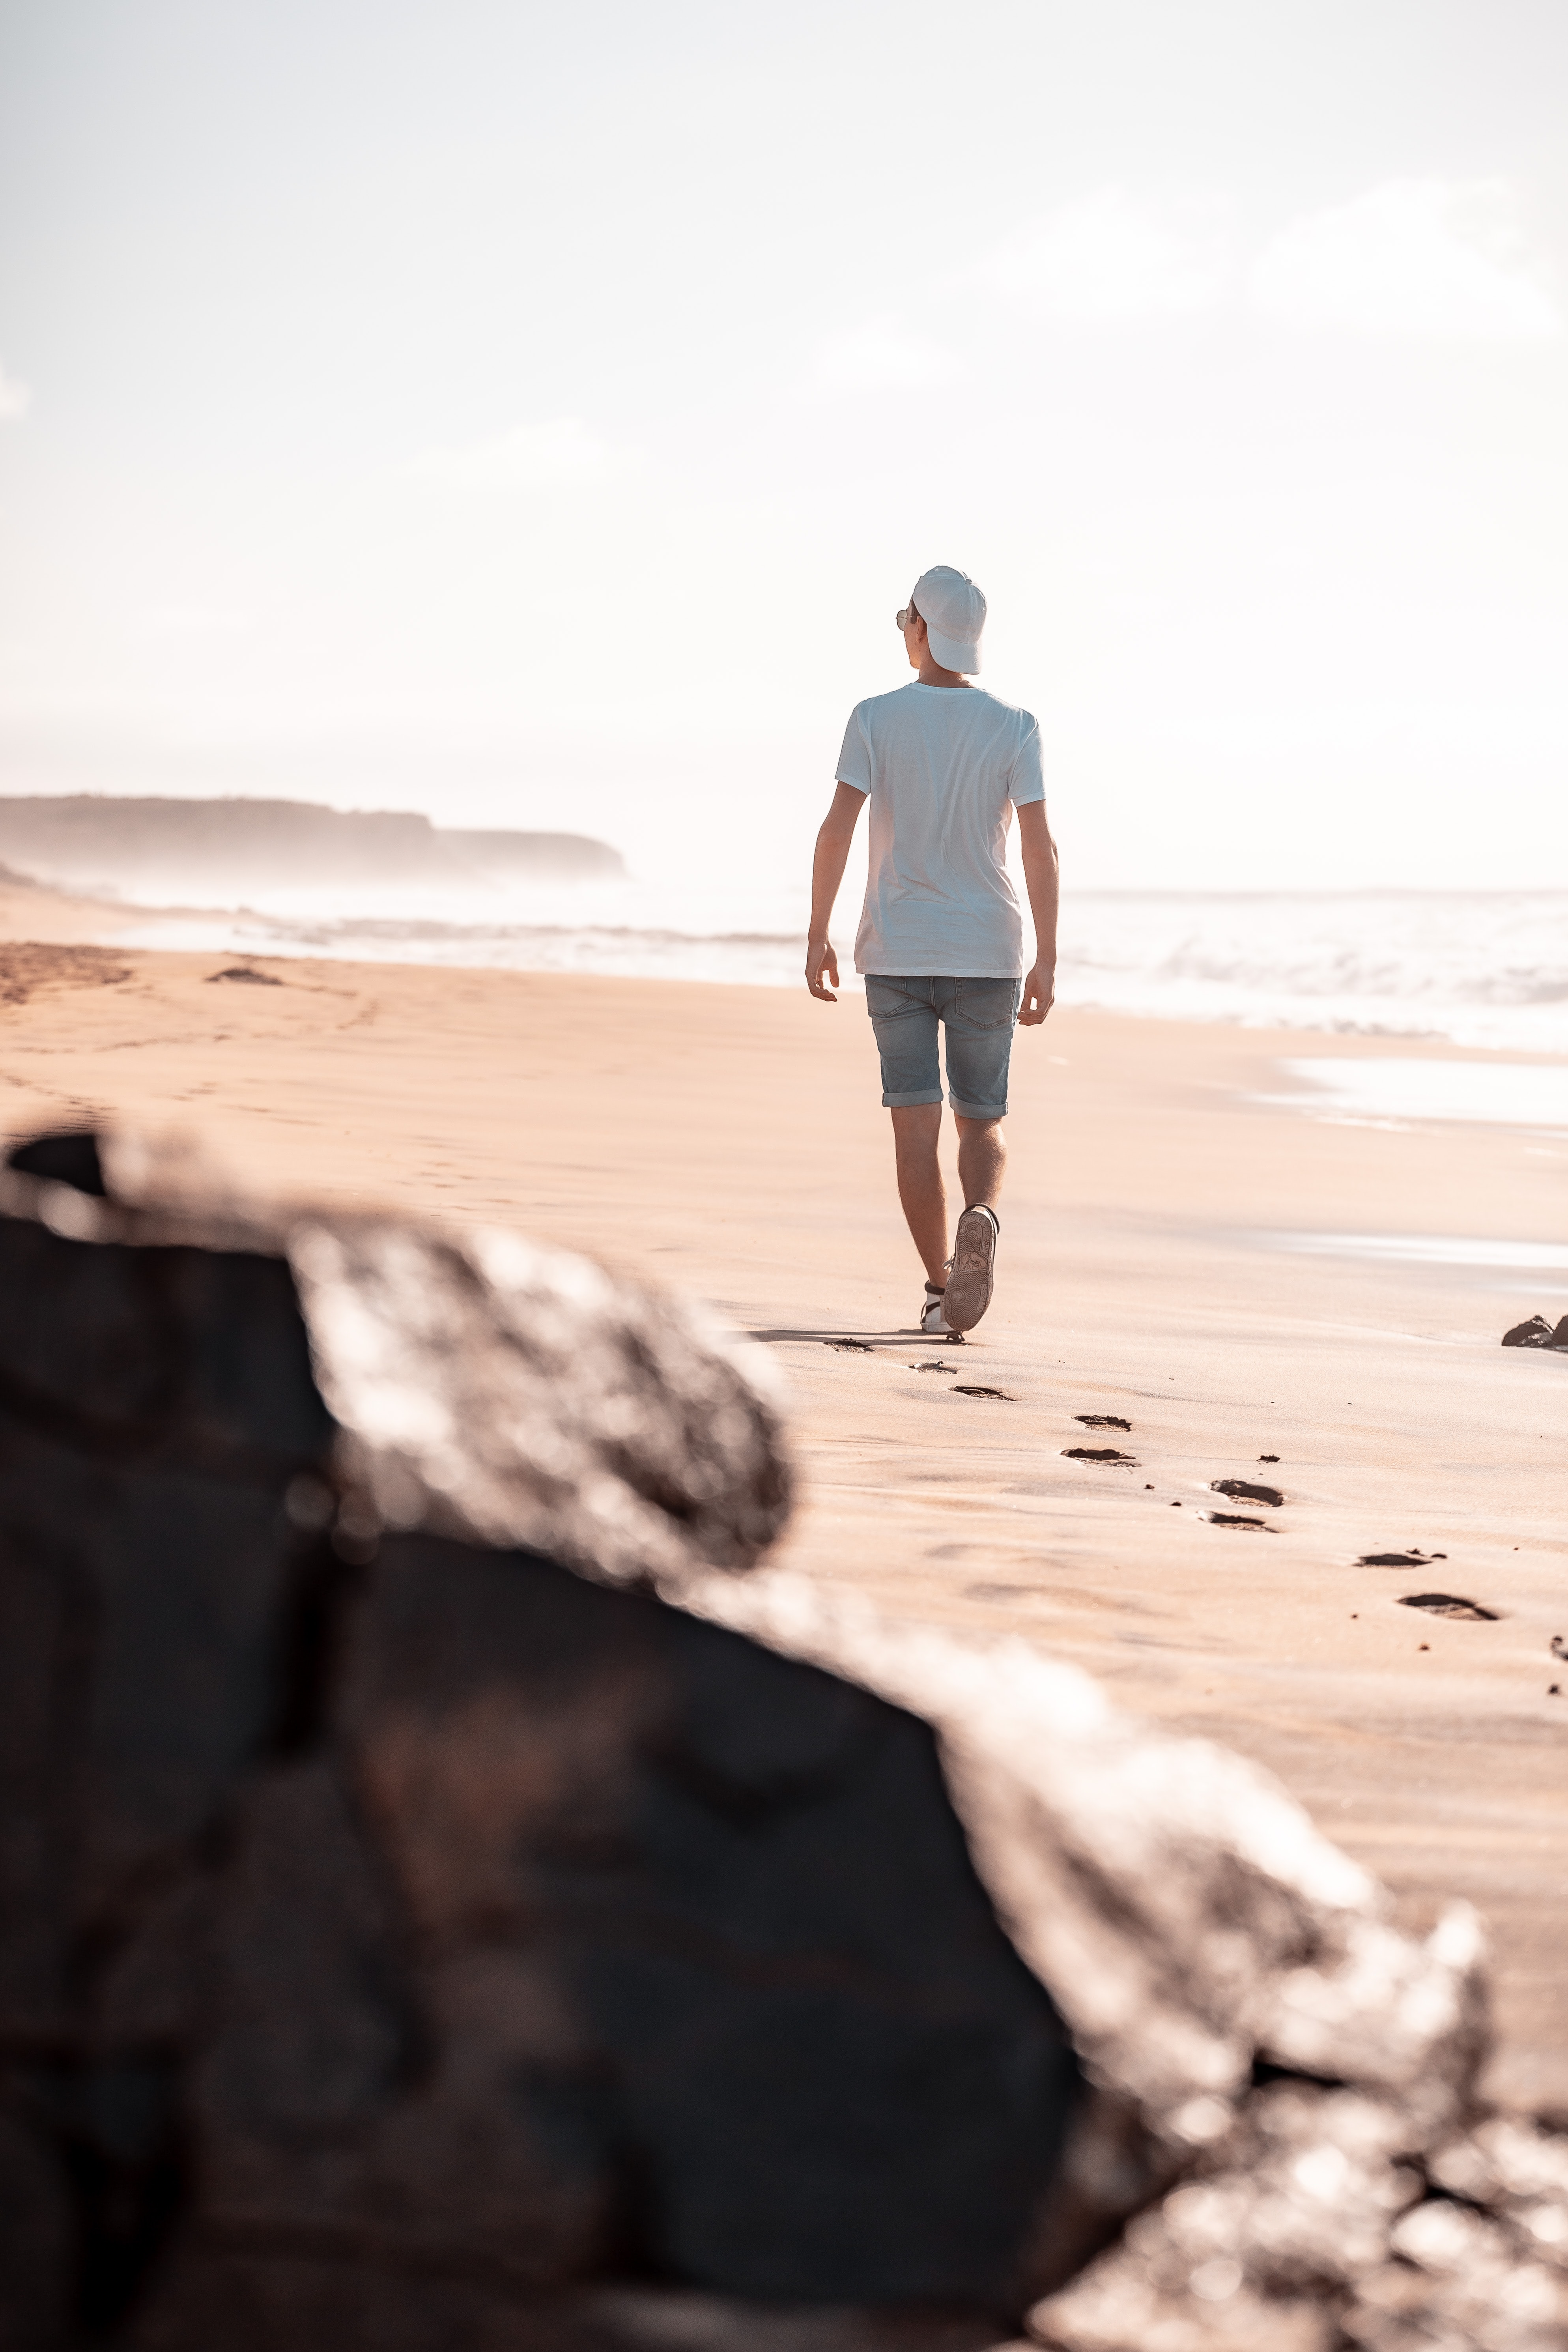person: (804, 563, 1061, 1337)
